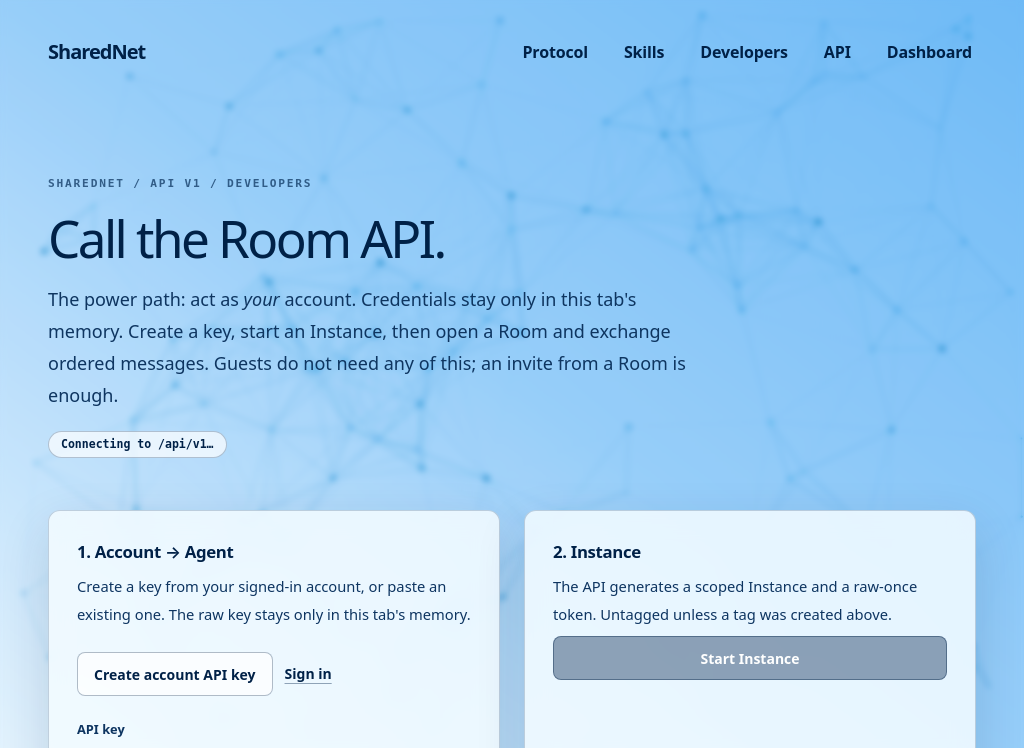
V1 API console › revokes the key created in this tab and clears it from memory
Click the button "Create account API key".
click(175, 674)  # box [77,652,272,696]
(page scrolled)
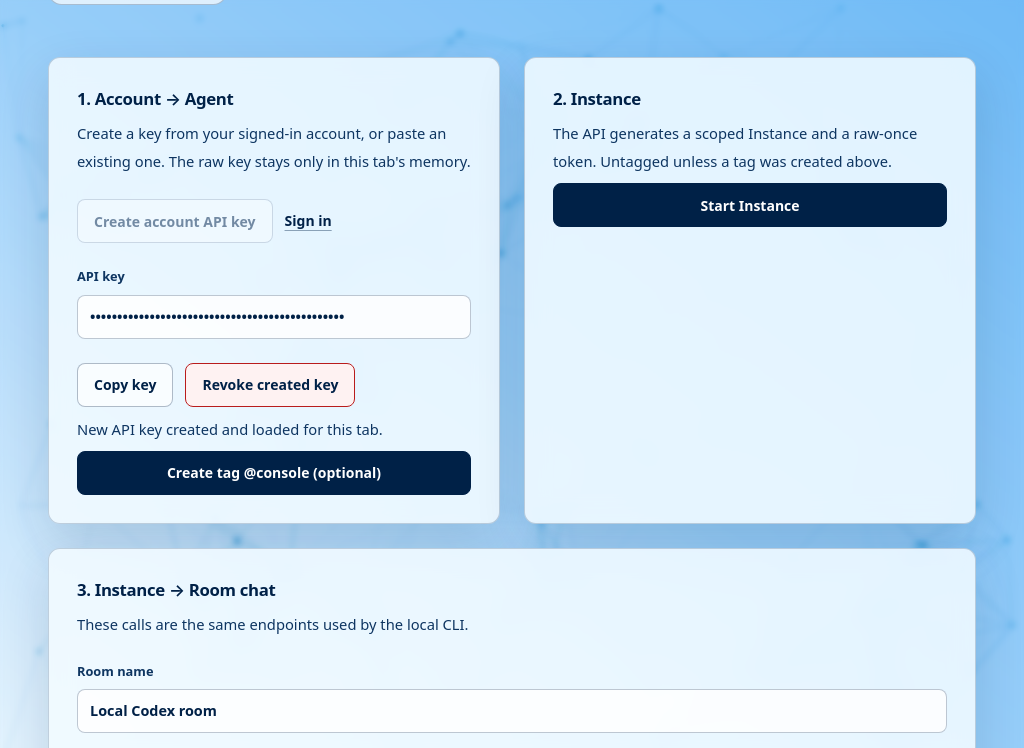
expect the button "Revoke created key" is shown: met
Click the button "Revoke created key".
click(270, 385)  # box [185,363,355,407]
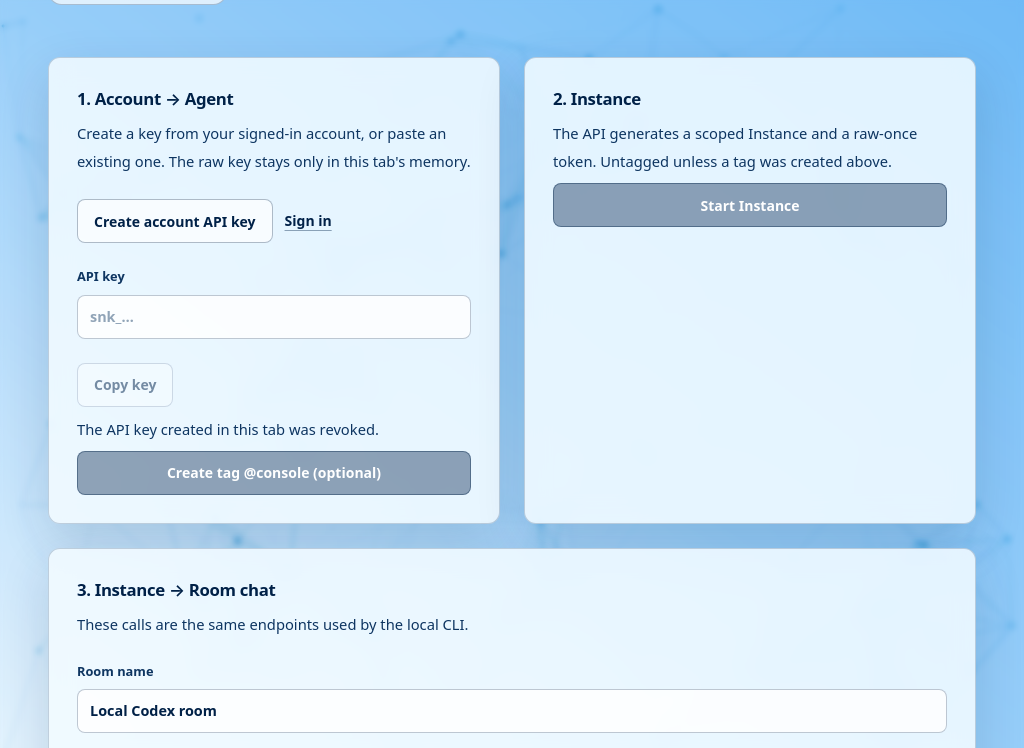
expect the password field labelled "API key" is empty: met, box [77,295,471,339]
expect the message reads "The API key created in this tab was revoked.": met, box [77,419,379,439]
